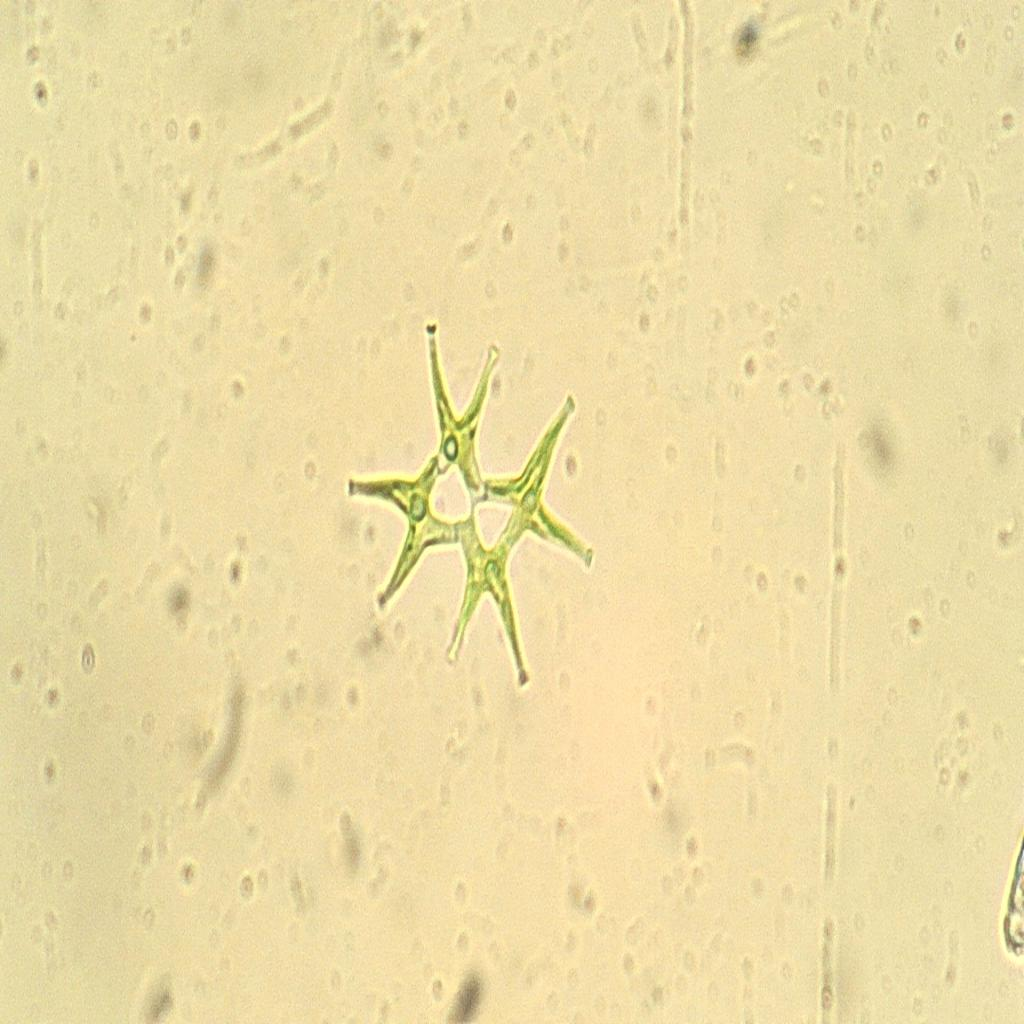Pediastrum_75FO: (349, 311, 602, 714)
